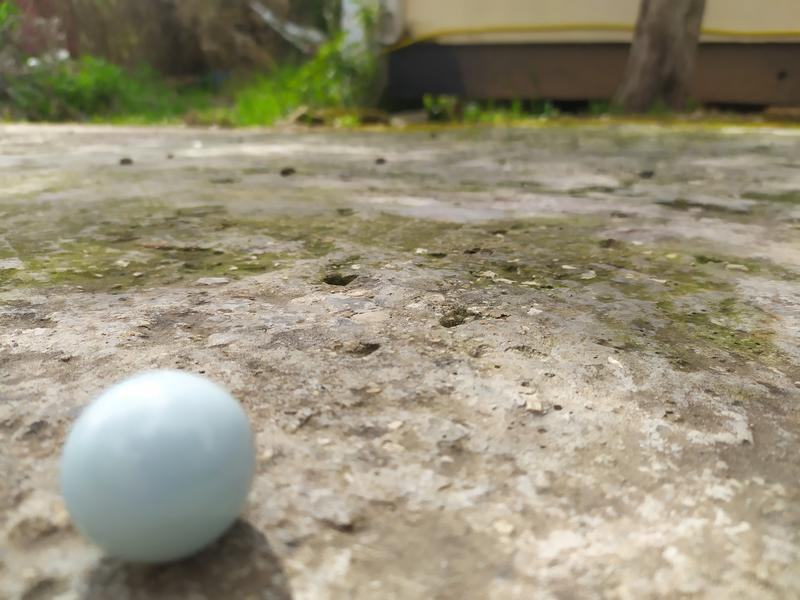Warning: (55, 363, 261, 569)
